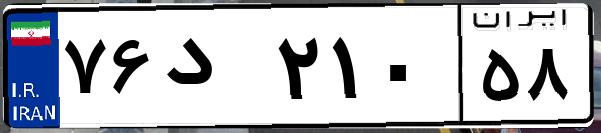0: (385, 28, 445, 110)
1: (330, 28, 385, 110)
2: (270, 28, 330, 110)
5: (475, 38, 525, 113)
6: (110, 28, 158, 98)
7: (57, 26, 110, 100)
8: (525, 38, 570, 115)
د: (158, 20, 270, 120)
